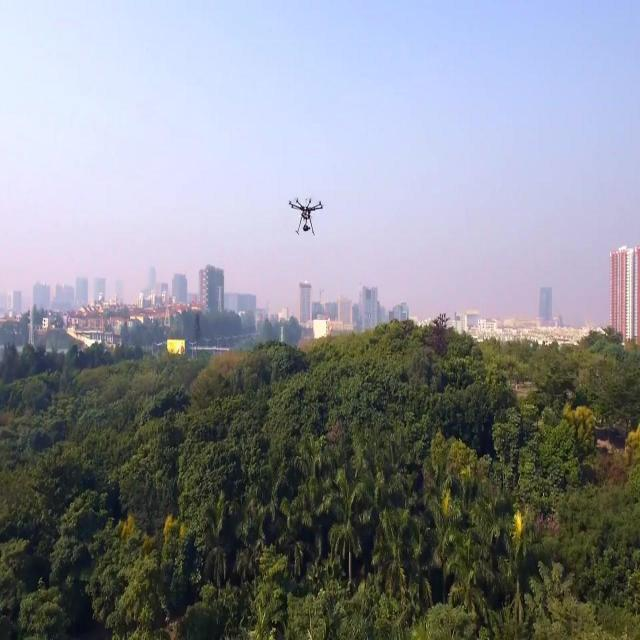UAV: (288, 197, 324, 236)
